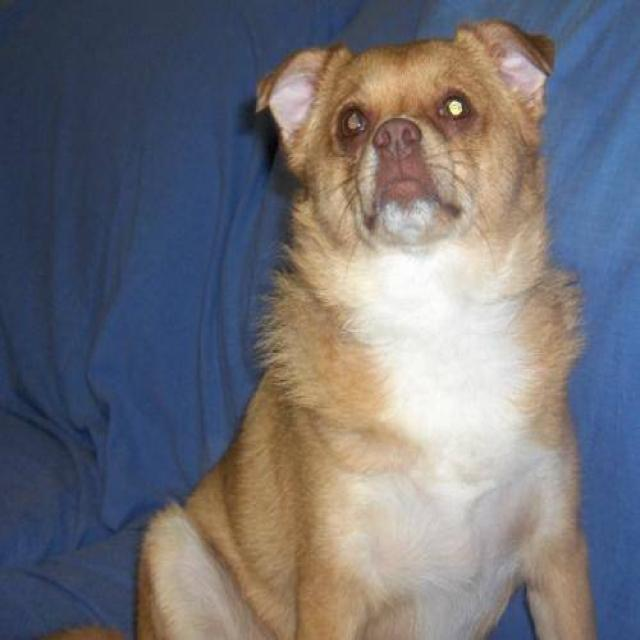Dog: (248, 6, 556, 248)
